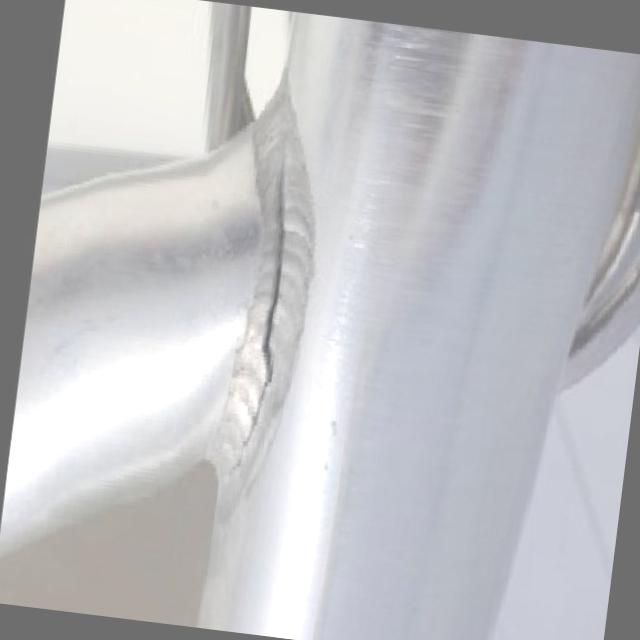crack: (252, 162, 298, 380), (230, 383, 266, 485)
